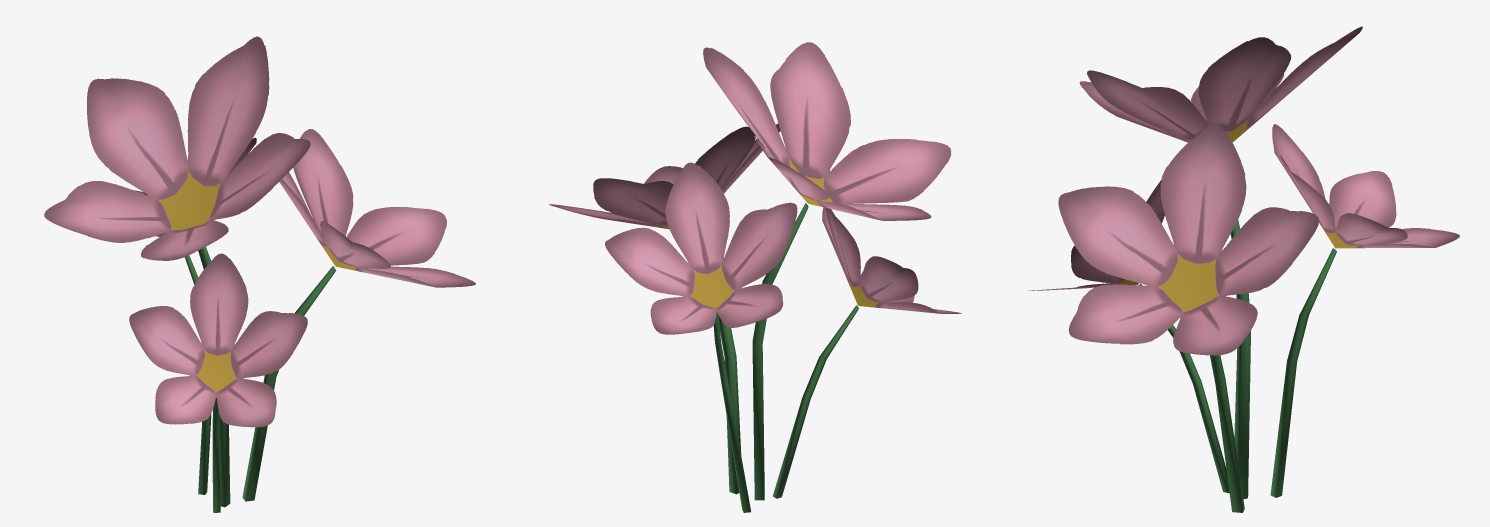
File: flower_4_clump.gltf
3 renders of one model, left to right at view 1: azimuth 30°, elevation 25°; view 2: azimuth 150°, elevation 25°; view 3: azimuth 270°, elevation 25°, orthographic. The views are drawn at different scales.
Visible parts, largest first — view 1: Flower_4_Clump; view 2: Flower_4_Clump; view 3: Flower_4_Clump.
Part boxes in pixels (x1,y1,x2,y2): Flower_4_Clump: (44, 36, 475, 512); Flower_4_Clump: (549, 42, 961, 512); Flower_4_Clump: (1028, 26, 1459, 512).
Bounding box in the file's own units: 0.568 × 0.6011 × 0.4979.
Materials: 1 (1 with a texture image).
